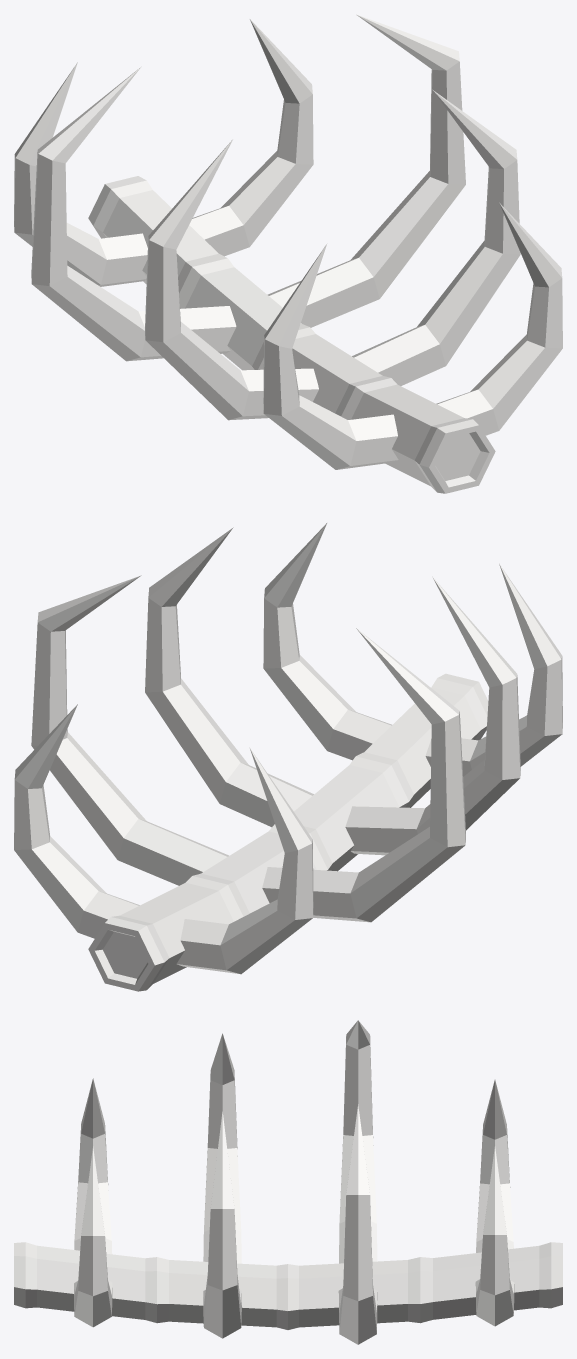
The model's file is Bones_1.fbx.
The picture shows the model from 3 angles, top to bottom: view 1: azimuth 30°, elevation 25°; view 2: azimuth 150°, elevation 25°; view 3: azimuth 270°, elevation 25°; orthographic projection. The views are drawn at different scales.
Parts seen in each view (by area): view 1: Bones_1; view 2: Bones_1; view 3: Bones_1.
Part boxes in pixels (bbox=[...]): Bones_1: bbox=[14, 14, 562, 493]; Bones_1: bbox=[14, 523, 562, 991]; Bones_1: bbox=[14, 1020, 562, 1344].
Bounding box in the file's own units: 124 × 169 × 88.49.
